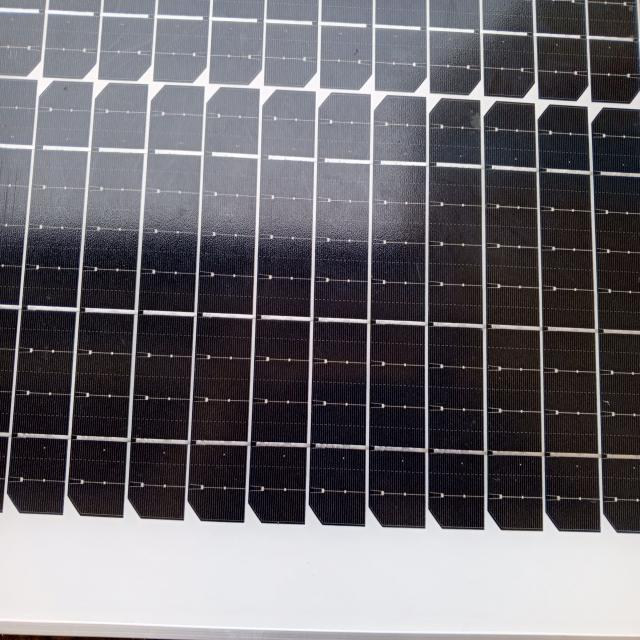Clean: (1, 5, 640, 550)
